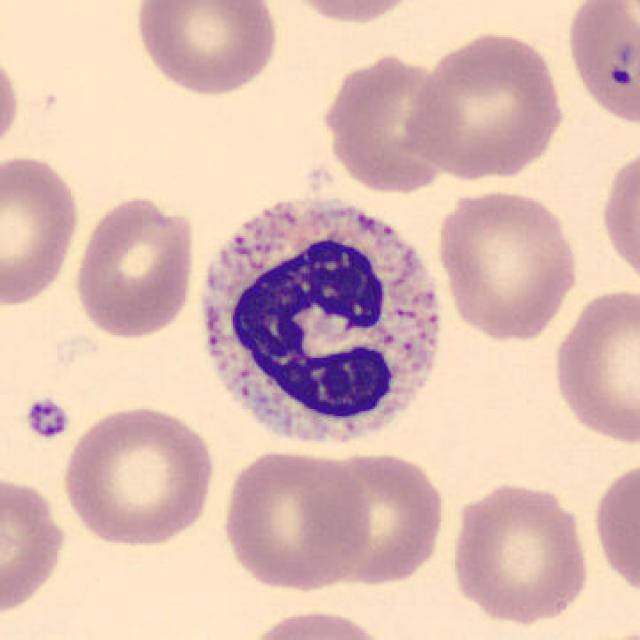Neutrophil: (187, 183, 453, 462)
Platelets: (21, 393, 73, 443)
RBC: (402, 27, 569, 182), (57, 400, 219, 550), (432, 185, 581, 344), (217, 446, 373, 592), (444, 478, 596, 626), (69, 192, 201, 342), (326, 61, 469, 195), (315, 448, 448, 589), (130, 0, 282, 99), (548, 284, 638, 448), (0, 150, 84, 308), (0, 469, 71, 624), (561, 0, 638, 130), (590, 455, 638, 603), (598, 140, 638, 294), (238, 604, 394, 640), (274, 0, 425, 26), (0, 44, 23, 161), (576, 622, 640, 640)
